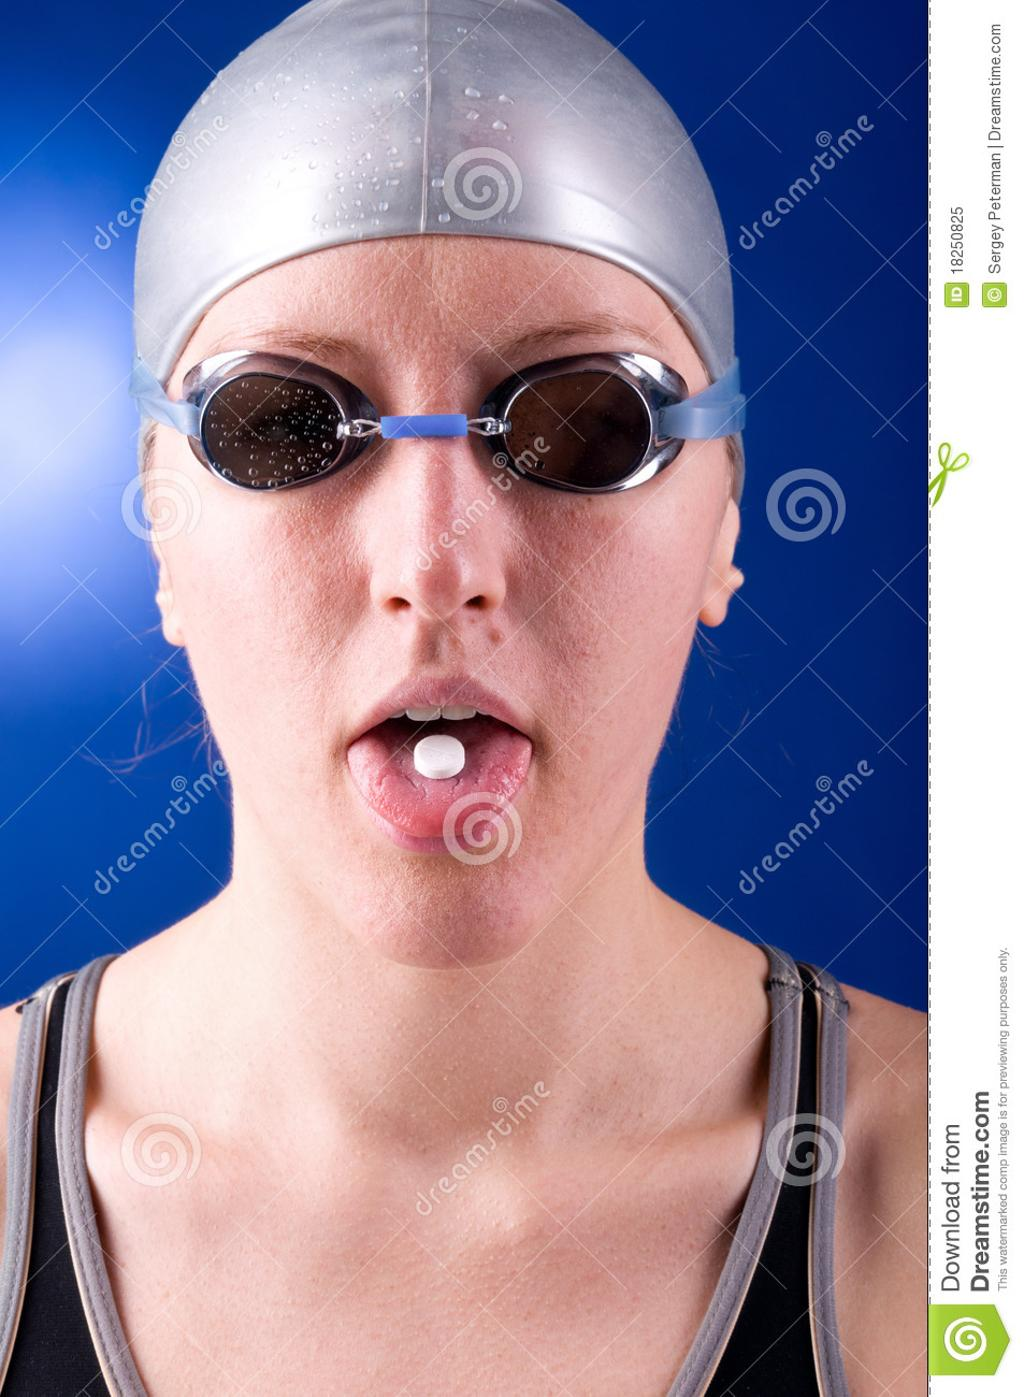face: (150, 254, 707, 972)
